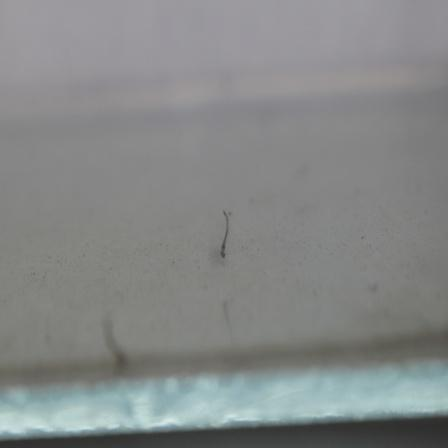Jentik-Nyamuk: (218, 207, 235, 263)
